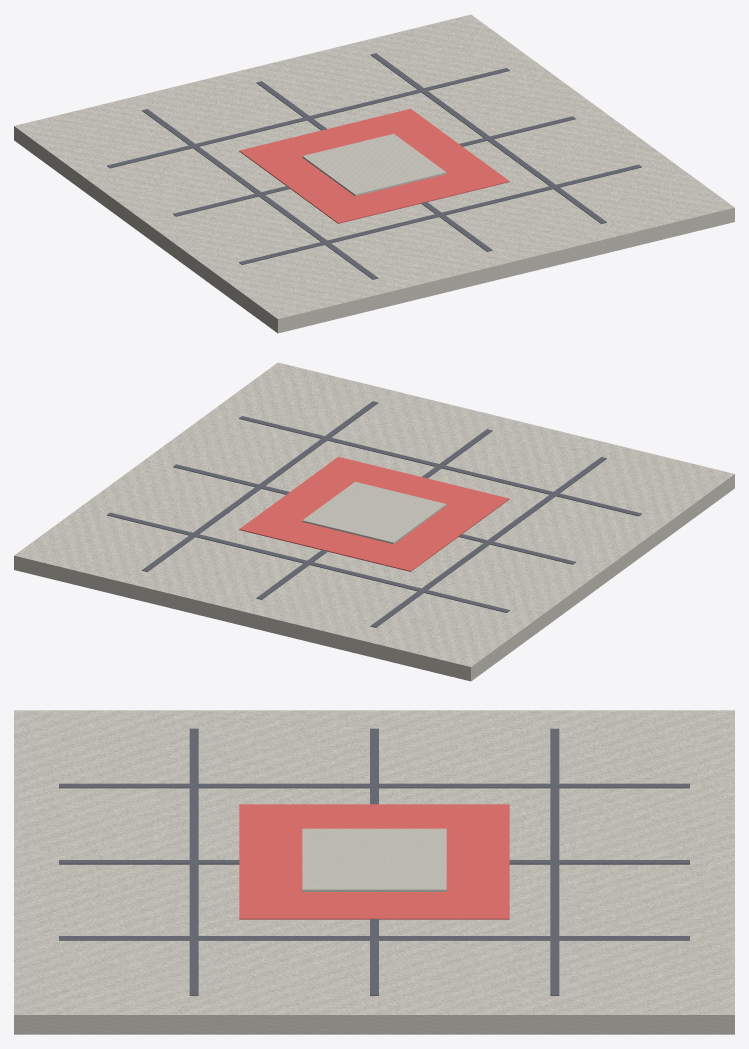
File: theme-park-rides-and-coasters-theme-park-rides-and-coa-0145c048__28697.glb
The picture shows the model from 3 angles, top to bottom: view 1: azimuth 30°, elevation 25°; view 2: azimuth 150°, elevation 25°; view 3: azimuth 270°, elevation 25°; orthographic projection. The views are drawn at different scales.
Parts seen in each view (by area): view 1: theme-park-rides-and-coasters-path-tile-crossroads; view 2: theme-park-rides-and-coasters-path-tile-crossroads; view 3: theme-park-rides-and-coasters-path-tile-crossroads.
Part boxes in pixels (x1,y1,x2,y2): theme-park-rides-and-coasters-path-tile-crossroads: [14, 14, 734, 333]; theme-park-rides-and-coasters-path-tile-crossroads: [14, 362, 734, 681]; theme-park-rides-and-coasters-path-tile-crossroads: [14, 710, 734, 1034].
Size of the model in its own units: 4 by 0.1421 by 4.
Materials: 3 (1 with a texture image).
